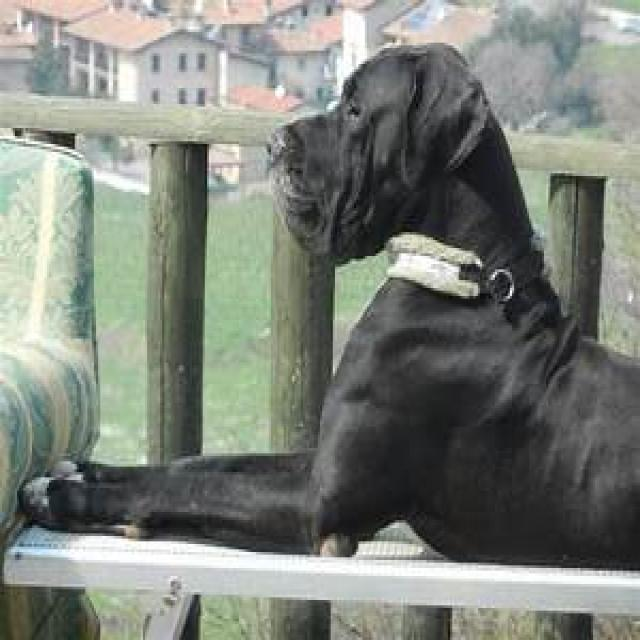dog: (26, 43, 640, 576)
